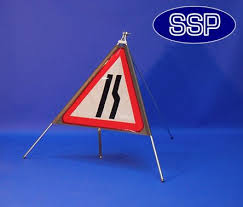Narrow_road: (60, 47, 150, 134)
